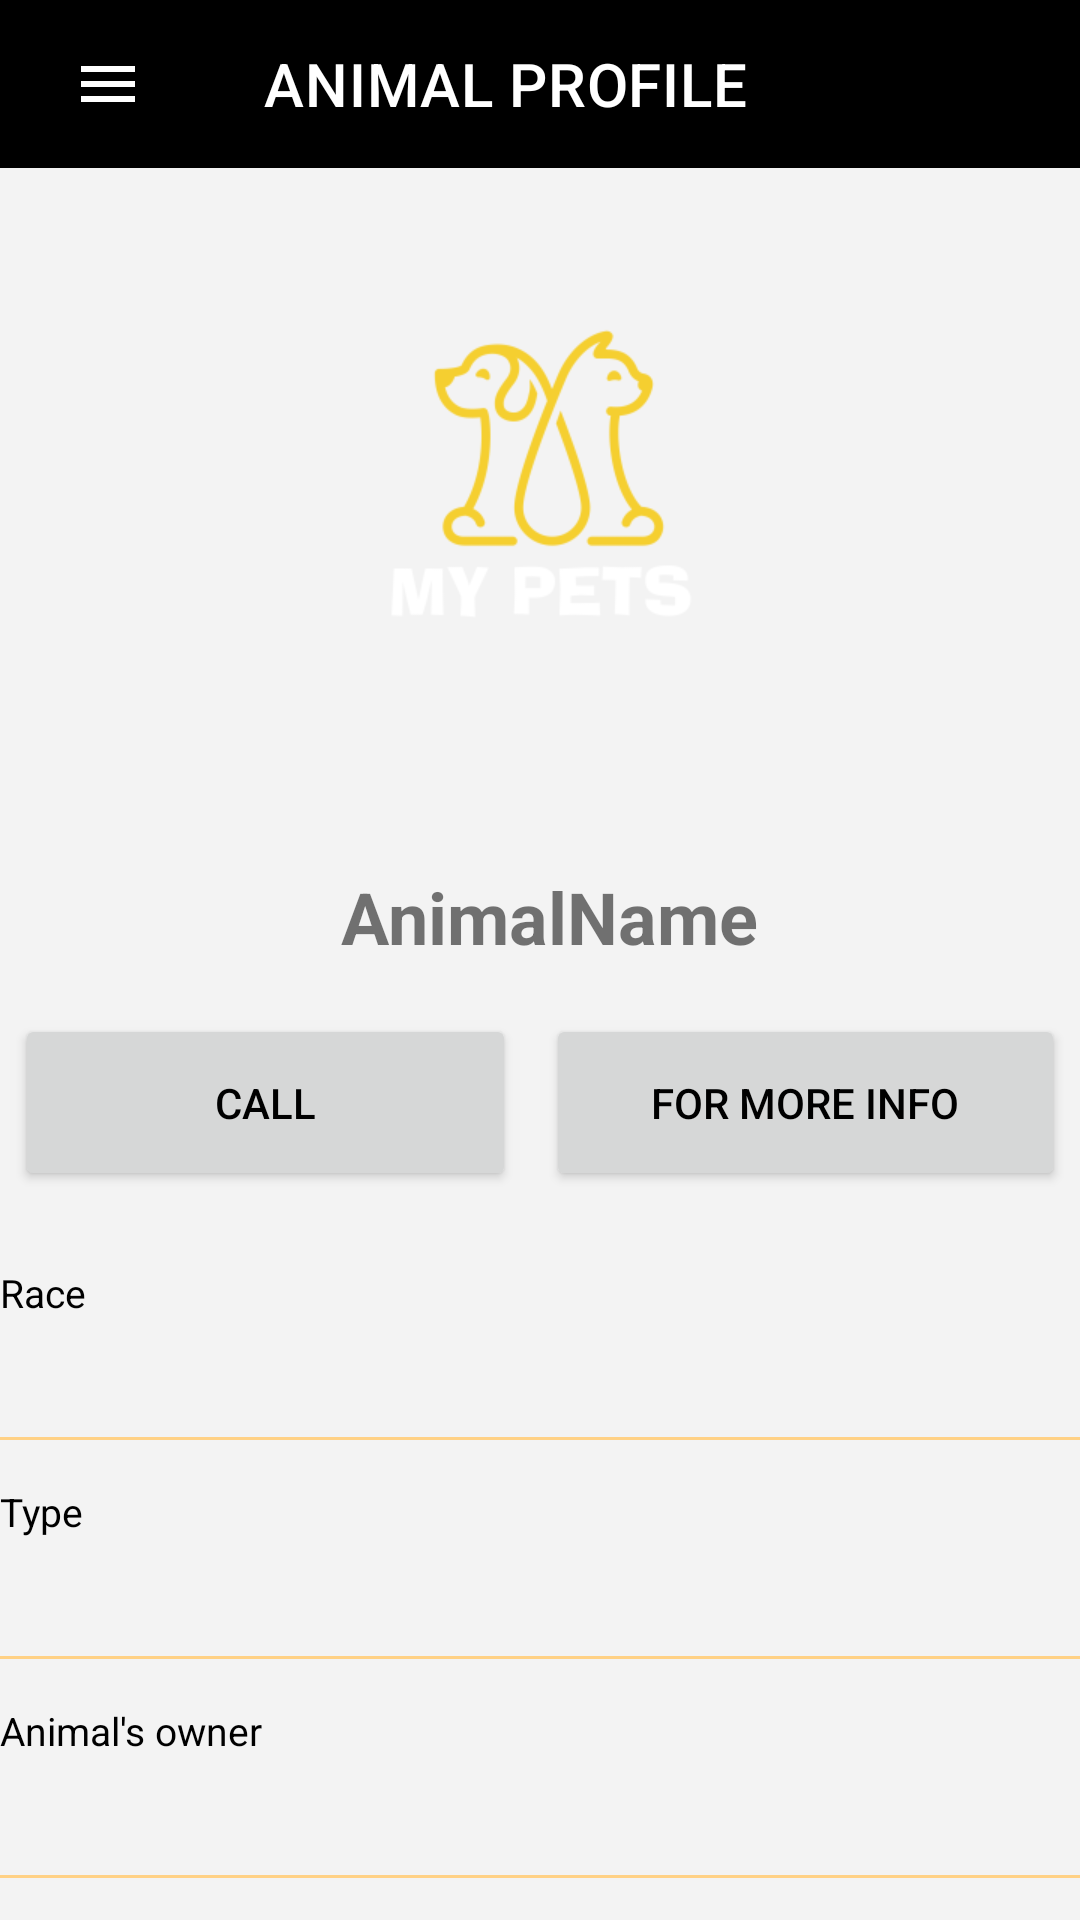

Where icons sit on this 1080*1920 app screen, as box(x1, y1, x2, y2):
menu: box(81, 66, 135, 102)
